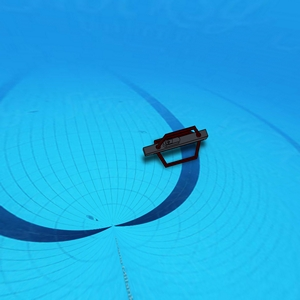submarine: (141, 127, 209, 171)
